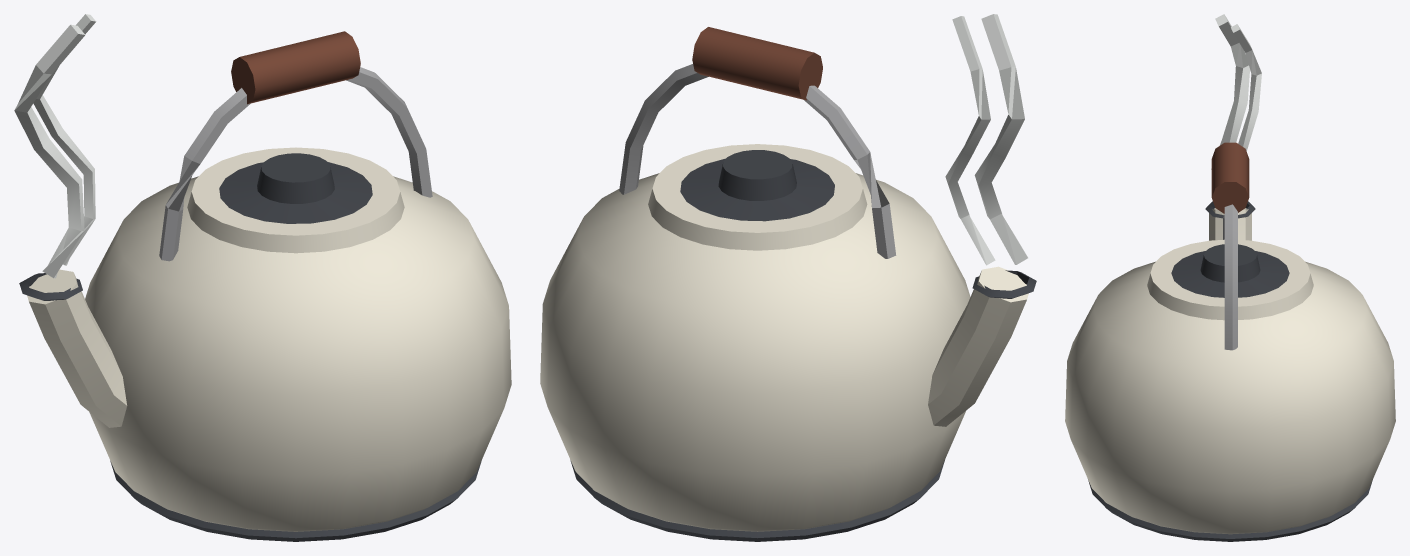
The model's file is cook_hot_water.glb.
3 views of the same model, side by side, from view 1: azimuth 30°, elevation 25°; view 2: azimuth 150°, elevation 25°; view 3: azimuth 270°, elevation 25° (orthographic). The views are drawn at different scales.
Visible parts, largest first — view 1: body; view 2: body; view 3: body.
Part boxes in pixels (box(x1,y1,x2,y2)): body: box(14, 14, 511, 541); body: box(540, 14, 1036, 541); body: box(1065, 14, 1395, 541).
Bounding box in the file's own units: 0.0611 × 0.0642 × 0.0496.
